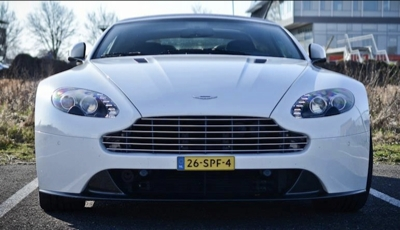Plate: (176, 154, 236, 171)
